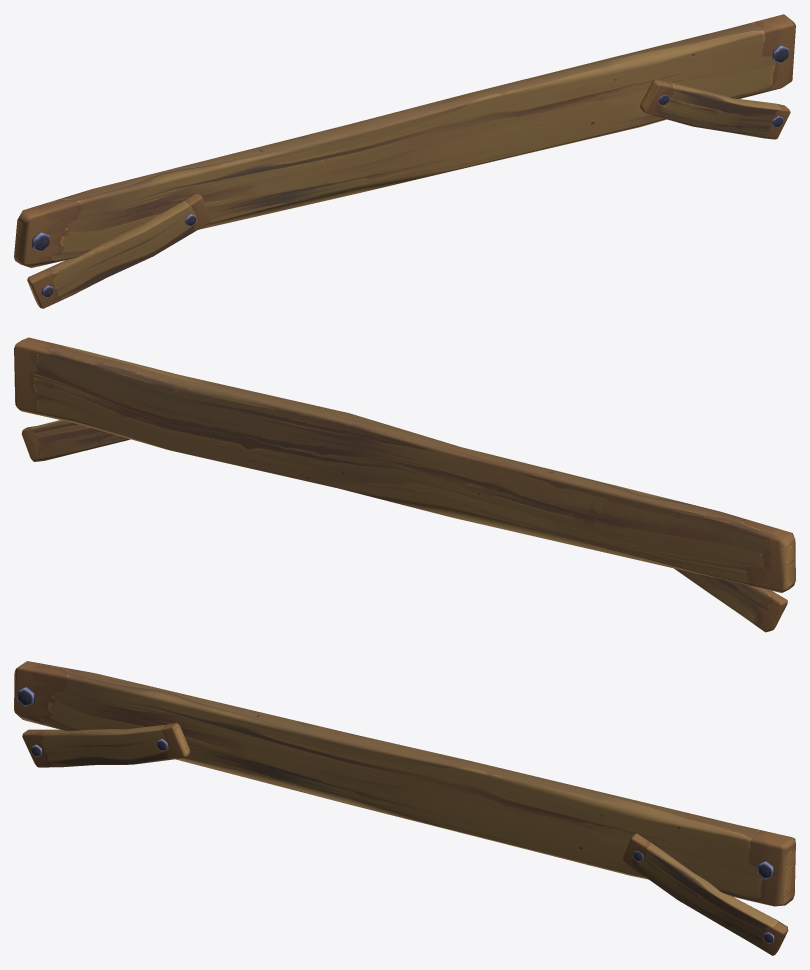
The model's file is SM_MOD_planks_deco_town_03.fbx.
3 views of the same model, one above another, from view 1: azimuth 30°, elevation 25°; view 2: azimuth 150°, elevation 25°; view 3: azimuth 330°, elevation 25° (orthographic).
Visible parts, largest first — view 1: SM_MOD_planks_deco_town_03_LOD0; view 2: SM_MOD_planks_deco_town_03_LOD0; view 3: SM_MOD_planks_deco_town_03_LOD0.
Boxes of the visible parts, x1,y1,x2,y2 form: SM_MOD_planks_deco_town_03_LOD0: [14, 14, 795, 308]; SM_MOD_planks_deco_town_03_LOD0: [14, 337, 795, 632]; SM_MOD_planks_deco_town_03_LOD0: [14, 661, 795, 955].
Size of what is drawn, in the model's own units: 417 by 60.97 by 21.26.
